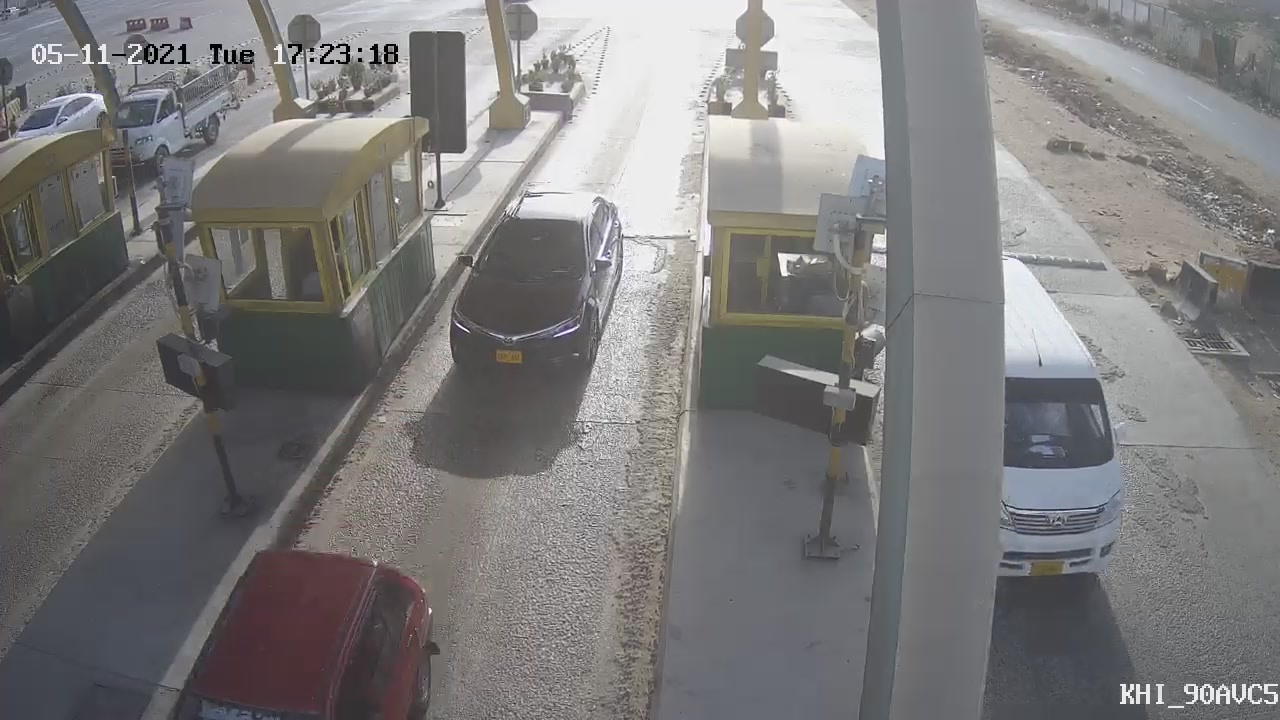F1: (418, 168, 650, 408)
